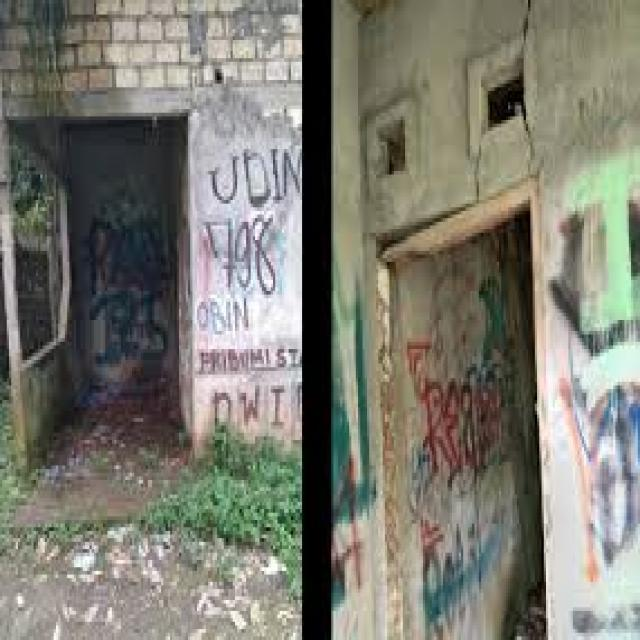-: (552, 165, 640, 566), (413, 282, 528, 482), (326, 287, 382, 596), (84, 216, 178, 364), (198, 309, 302, 431), (202, 214, 281, 294), (196, 140, 302, 199)
